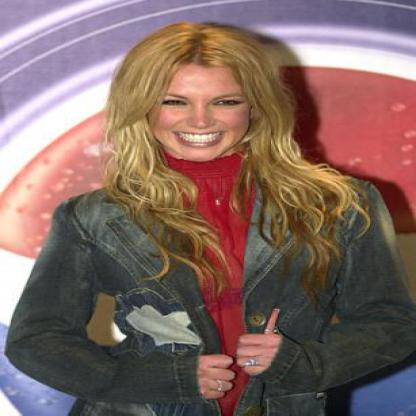face: (144, 38, 259, 163)
